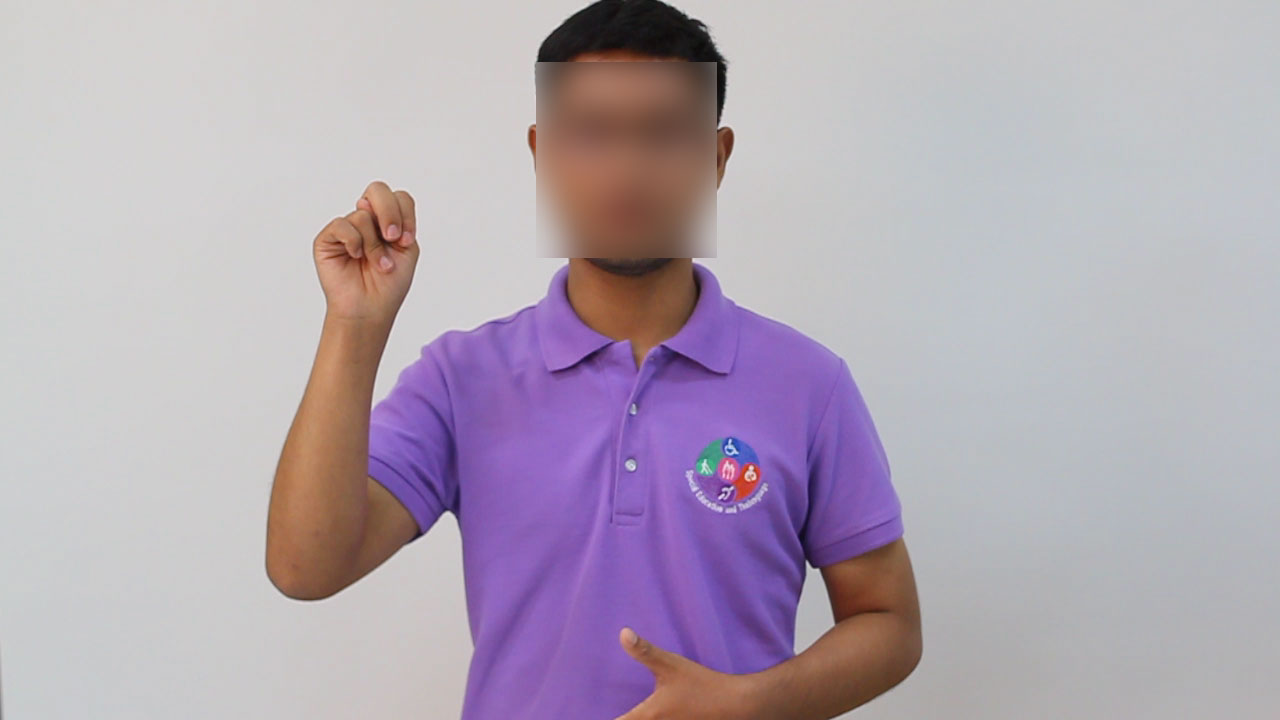nor: (309, 173, 432, 321)
